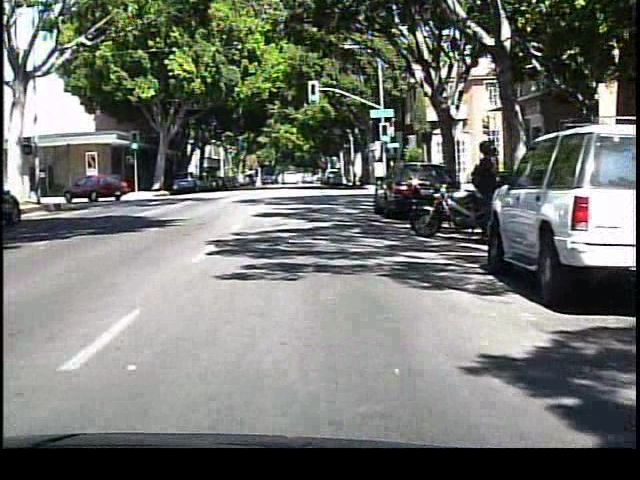person: (465, 132, 510, 246)
